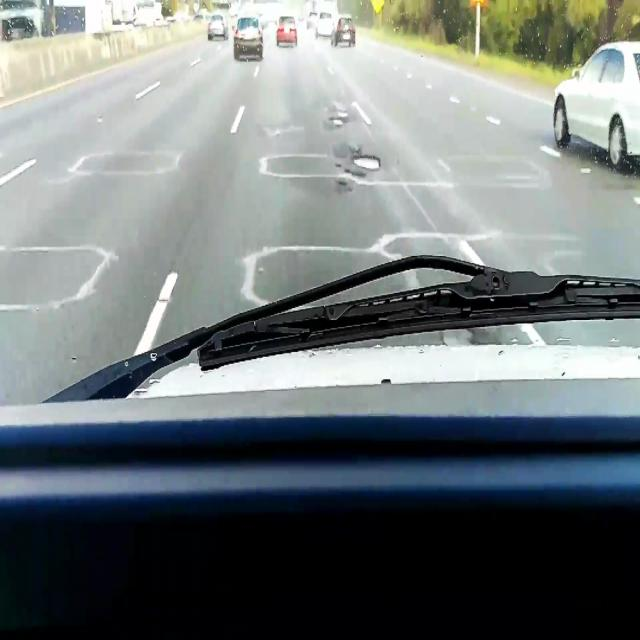Pothole: (352, 153, 382, 175), (331, 111, 350, 127)
